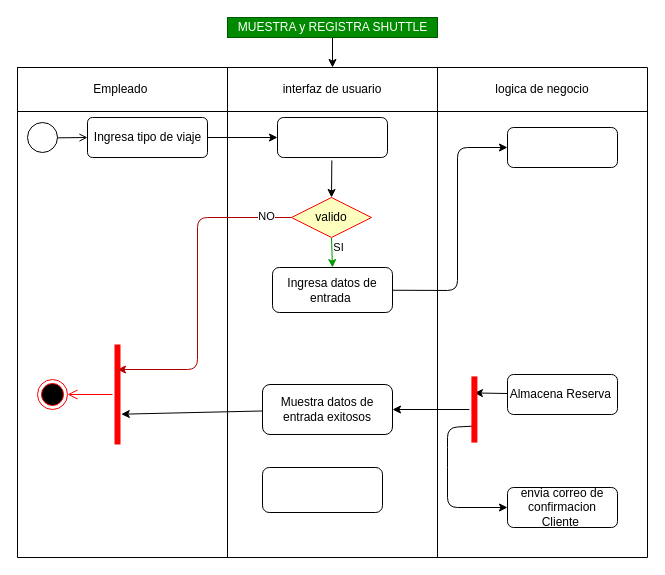
Some shapes in this 665 by 575 pixel diagram are drawn without their labels. The centre of each missing label's shape, as x and y in pixels:
Autenticacion usuario: the point at 332,137
Captura datos de entrada: the point at 322,489
Consulta datos de entrada: the point at 562,147
